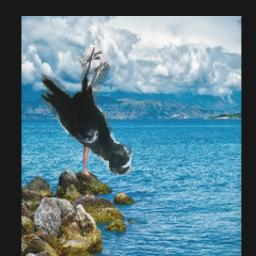Crow: (42, 47, 132, 175)
